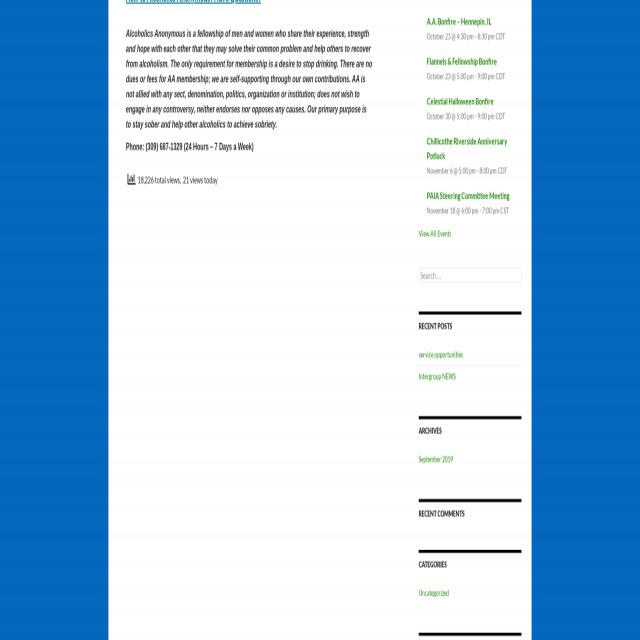button: (128, 172, 136, 186)
field: (419, 268, 521, 283)
